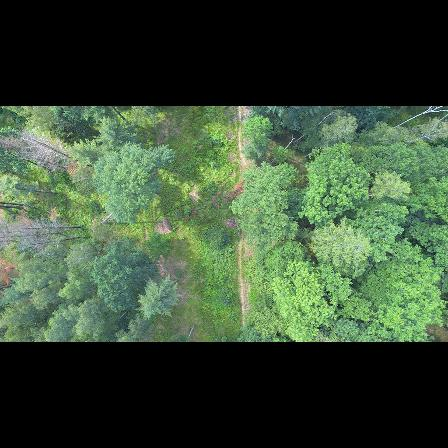Dead: (8, 219, 83, 235), (28, 139, 78, 161), (20, 233, 85, 249)
